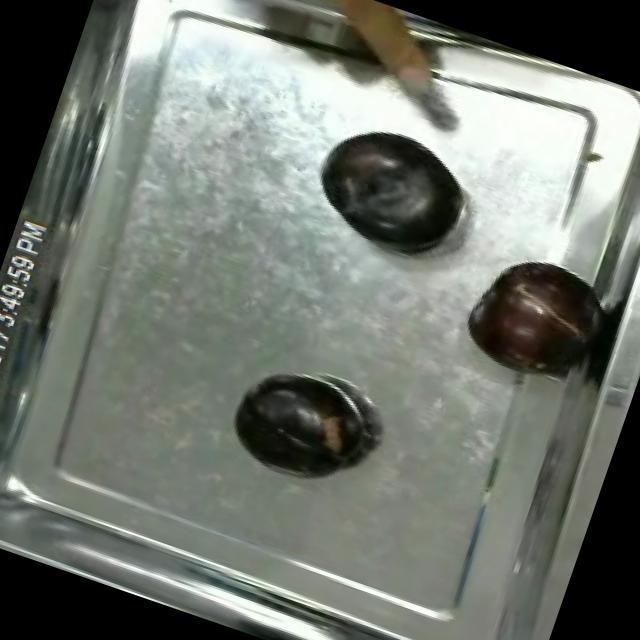Fruit: (298, 107, 484, 276), (450, 241, 611, 396), (216, 362, 370, 496)
